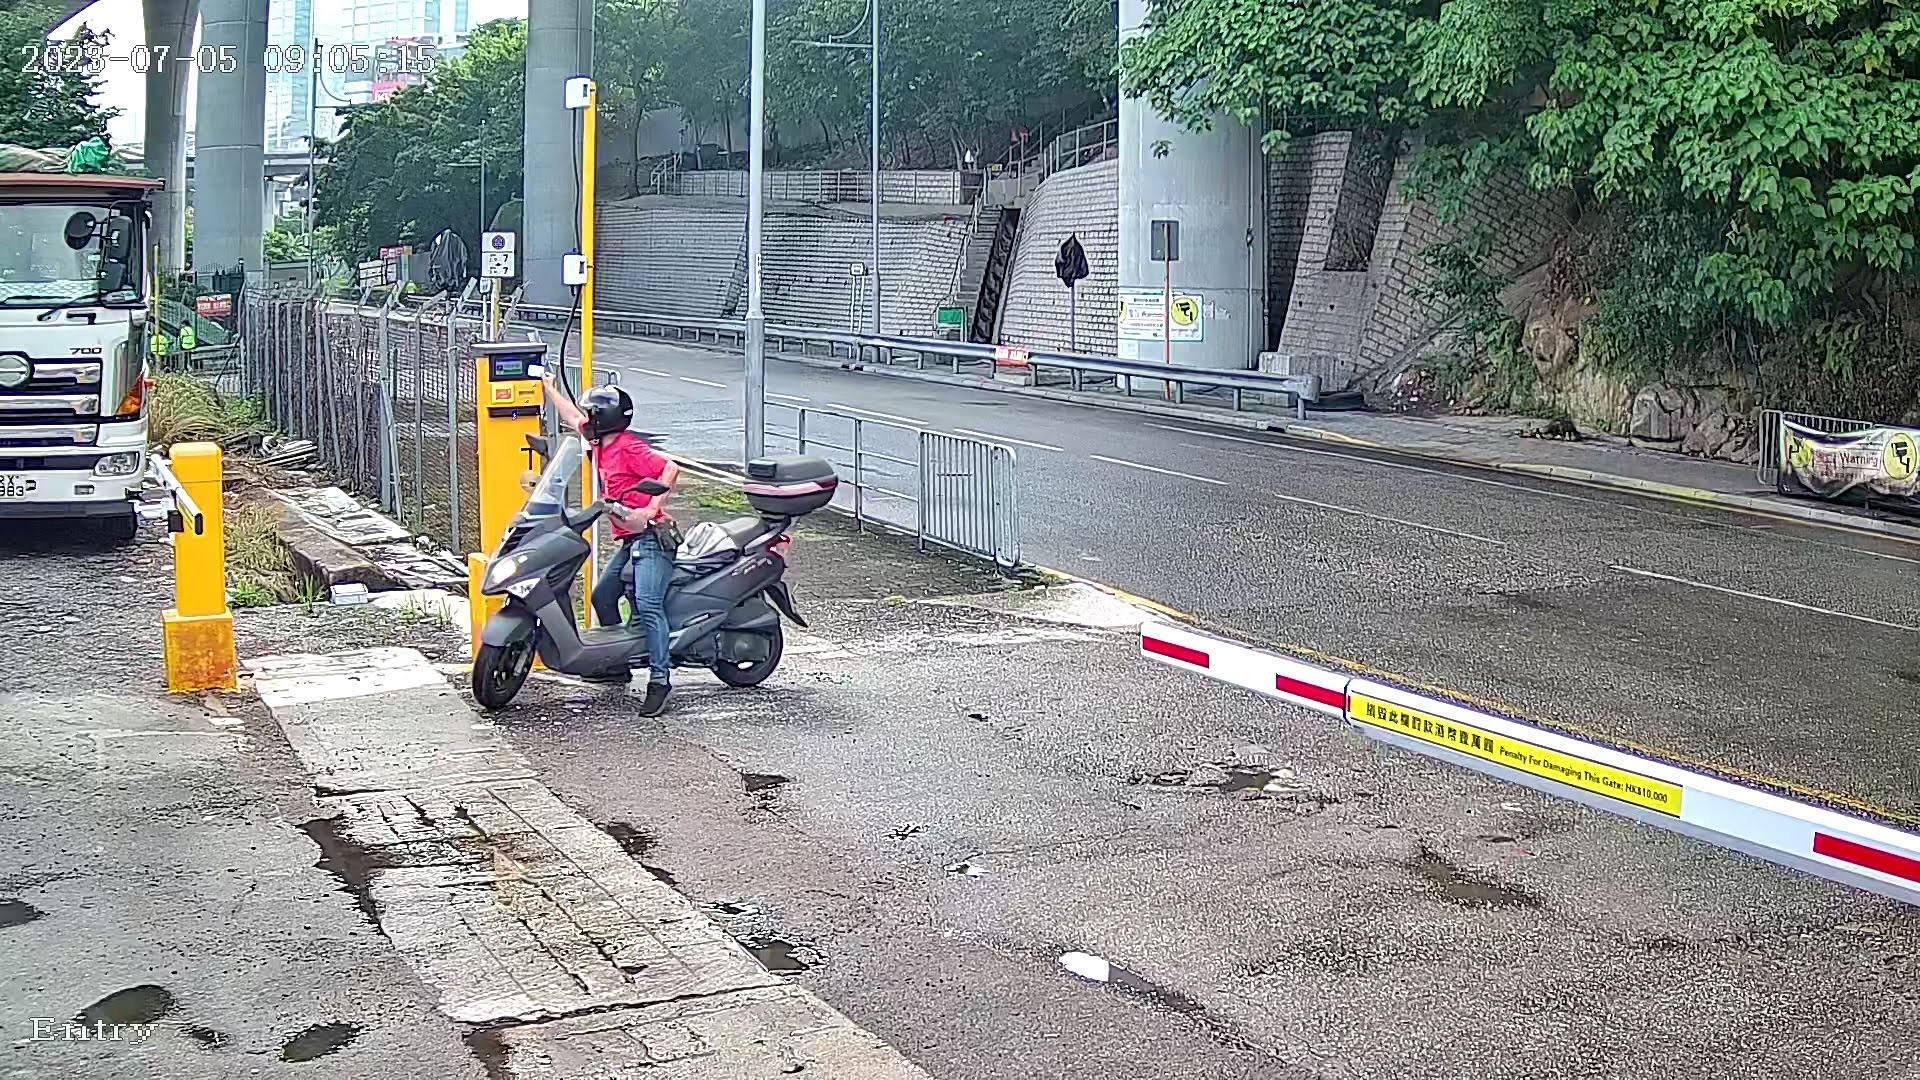motorcycle: (429, 318, 885, 748)
